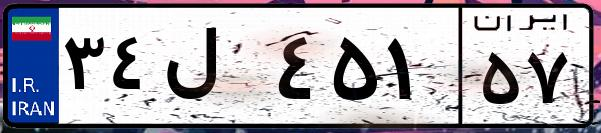1: (385, 28, 445, 110)
3: (57, 26, 110, 100)
4: (270, 28, 330, 110), (110, 28, 158, 98)
5: (330, 28, 385, 110), (475, 38, 525, 113)
7: (525, 38, 570, 115)
ل: (158, 20, 270, 120)
